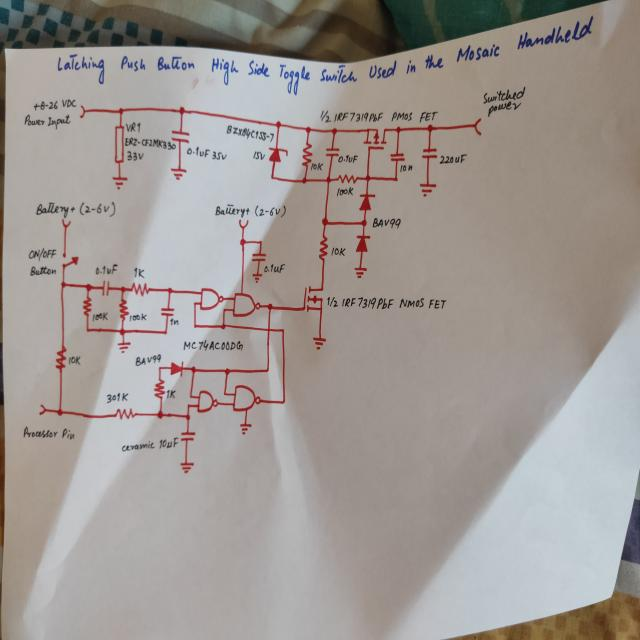capacitor: (171, 128, 191, 144), (420, 146, 438, 160), (179, 429, 196, 443), (324, 146, 340, 158), (160, 306, 176, 318), (101, 278, 111, 296), (250, 252, 266, 263), (390, 151, 406, 162)
crossover: (265, 325, 272, 335)
diode: (354, 233, 371, 254), (358, 192, 376, 211), (268, 147, 288, 163), (170, 358, 185, 378)
ground: (419, 182, 437, 197), (112, 175, 128, 191), (170, 167, 188, 181), (178, 460, 194, 475), (352, 265, 368, 280), (116, 340, 132, 355), (312, 336, 327, 351), (240, 422, 252, 435), (252, 272, 263, 284)
junction: (177, 105, 186, 116), (116, 106, 125, 116), (426, 124, 435, 134), (56, 406, 64, 417), (156, 410, 164, 420), (321, 217, 329, 227), (266, 302, 274, 312), (238, 236, 246, 246), (223, 366, 231, 376), (360, 218, 368, 228), (184, 413, 192, 422), (394, 125, 402, 134), (275, 119, 282, 129), (304, 126, 312, 134), (85, 283, 92, 292), (301, 176, 308, 185), (190, 365, 197, 374), (119, 327, 126, 336), (220, 322, 227, 330), (331, 127, 338, 135), (166, 286, 173, 294), (60, 280, 66, 289), (280, 326, 286, 335), (365, 174, 371, 182), (281, 398, 287, 406), (192, 322, 198, 330), (264, 366, 270, 374), (326, 176, 332, 184), (393, 176, 399, 183), (269, 173, 275, 180), (222, 390, 228, 397), (185, 402, 191, 409), (120, 286, 126, 293), (258, 238, 263, 246), (85, 326, 90, 334), (163, 329, 168, 336), (188, 392, 193, 399), (158, 365, 162, 371), (193, 301, 197, 306), (223, 308, 226, 313)
resistor: (112, 125, 124, 163), (130, 281, 151, 297), (114, 406, 136, 421), (300, 142, 312, 168), (318, 234, 329, 262), (55, 346, 67, 371), (118, 298, 130, 321), (337, 173, 358, 185), (154, 378, 166, 399), (81, 298, 92, 316)
switch: (61, 252, 80, 270)
terminal: (474, 117, 482, 136), (37, 404, 48, 416), (238, 219, 250, 229), (78, 104, 85, 119), (62, 219, 72, 228)
text: (56, 12, 596, 96), (327, 294, 448, 310), (319, 110, 439, 124), (181, 338, 246, 352), (226, 124, 274, 142), (23, 425, 76, 441), (24, 113, 71, 130), (482, 86, 526, 104), (125, 136, 177, 151), (36, 201, 76, 218), (79, 200, 116, 218), (487, 100, 522, 118), (33, 98, 77, 112), (121, 439, 155, 454), (214, 204, 250, 218), (254, 204, 286, 218), (28, 246, 57, 261), (438, 152, 467, 166), (29, 263, 57, 277), (372, 217, 401, 230), (94, 262, 119, 277), (134, 353, 162, 366), (186, 145, 211, 159), (106, 390, 129, 404), (158, 436, 180, 450), (264, 263, 286, 274), (125, 120, 141, 134), (330, 245, 347, 258), (92, 311, 109, 323), (338, 153, 358, 163), (126, 150, 144, 161), (132, 266, 146, 280), (129, 312, 147, 322), (336, 186, 354, 196), (212, 150, 228, 161), (252, 150, 266, 161), (68, 355, 82, 366), (399, 163, 413, 173), (310, 162, 324, 172), (166, 388, 177, 400), (170, 318, 179, 327)
transistor: (302, 285, 324, 313), (363, 126, 386, 152)
